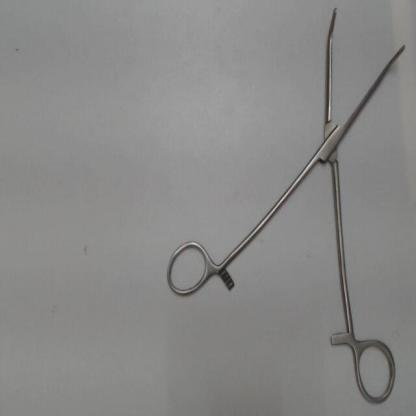Lahey Forceps: (160, 1, 412, 408)
